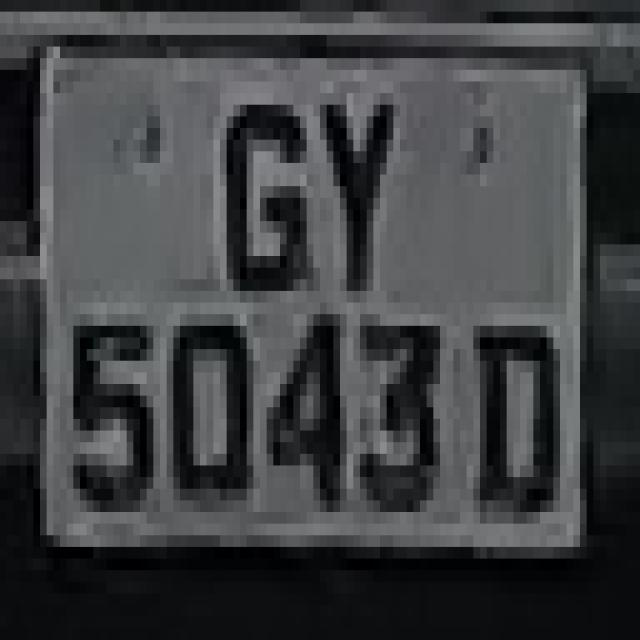0: (147, 314, 260, 500)
3: (340, 280, 447, 536)
4: (247, 279, 360, 547)
5: (53, 291, 147, 535)
D: (460, 291, 567, 558)
G: (207, 93, 313, 326)
Y: (287, 58, 413, 291)
